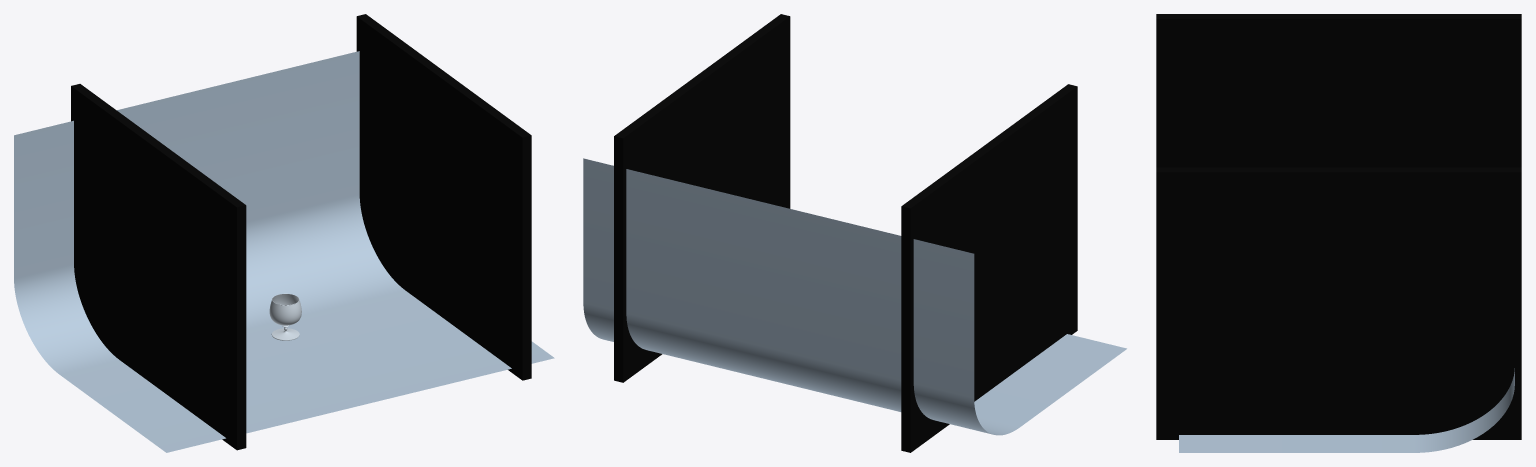
Rendered from glass.FBX.
3 views of the same model, side by side, from view 1: azimuth 30°, elevation 25°; view 2: azimuth 150°, elevation 25°; view 3: azimuth 270°, elevation 25° (orthographic). The views are drawn at different scales.
Parts seen in each view (by area): view 1: Line003, Box001, Box002, Line001; view 2: Line003, Box001, Box002; view 3: Box002, Box001, Line003.
Boxes of the visible parts, left/top/right/bottom form: Line003: left=14, top=51, right=554, bottom=452; Box001: left=71, top=84, right=246, bottom=450; Box002: left=356, top=14, right=531, bottom=380; Line001: left=269, top=293, right=301, bottom=340; Line003: left=583, top=158, right=1126, bottom=435; Box001: left=901, top=84, right=1077, bottom=452; Box002: left=614, top=14, right=790, bottom=382; Box002: left=1156, top=167, right=1521, bottom=439; Box001: left=1156, top=14, right=1521, bottom=167; Line003: left=1179, top=368, right=1514, bottom=452.
Bounding box in the file's own units: 55.5 × 33.17 × 41.07.
